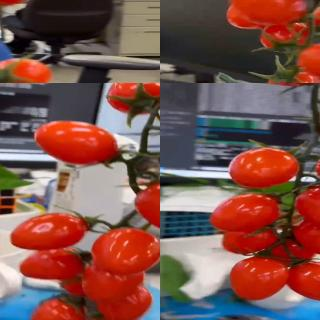tomato: (36, 121, 125, 168), (91, 227, 160, 276), (9, 212, 90, 251), (82, 264, 146, 305), (19, 247, 87, 282), (97, 284, 153, 320), (256, 20, 312, 54), (228, 0, 306, 24), (105, 83, 160, 115), (29, 297, 88, 320), (0, 58, 54, 83), (135, 180, 160, 233), (266, 65, 320, 83), (296, 39, 320, 79)
